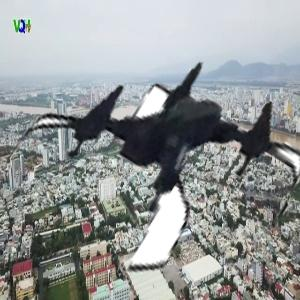drone: (34, 23, 300, 289)
